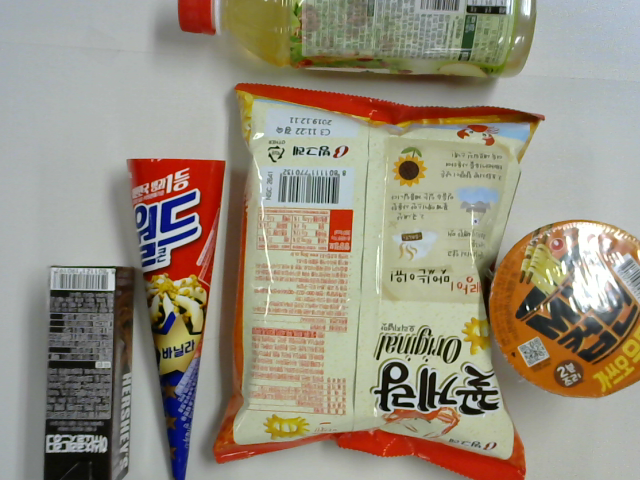Crabrang: (226, 81, 508, 476)
Hush_Choco_Drink: (39, 265, 134, 480)
Morning_Apple_500ml: (177, 1, 542, 74)
Udongmini: (485, 220, 640, 399)
World_Cone_Banila: (125, 157, 223, 480)
